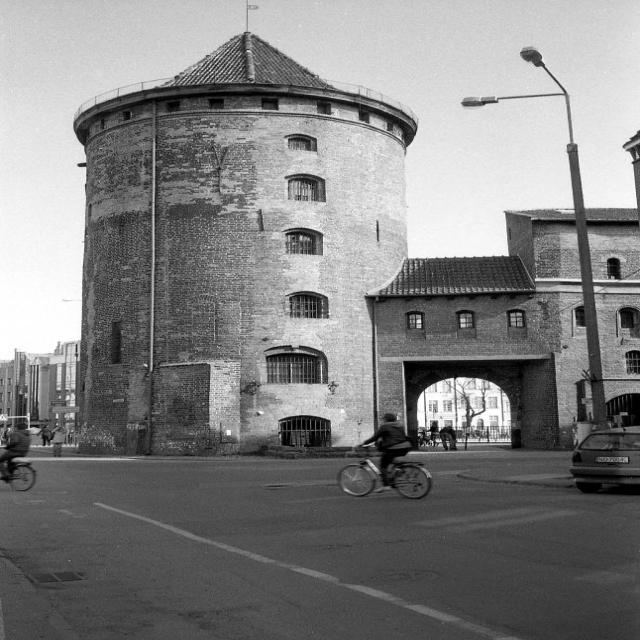car: (569, 433, 637, 496)
